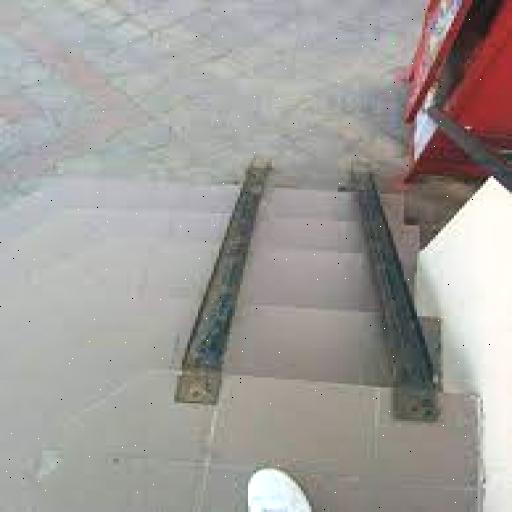ramp: (170, 155, 440, 424)
